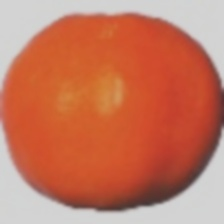tangerine: (12, 18, 208, 174)
